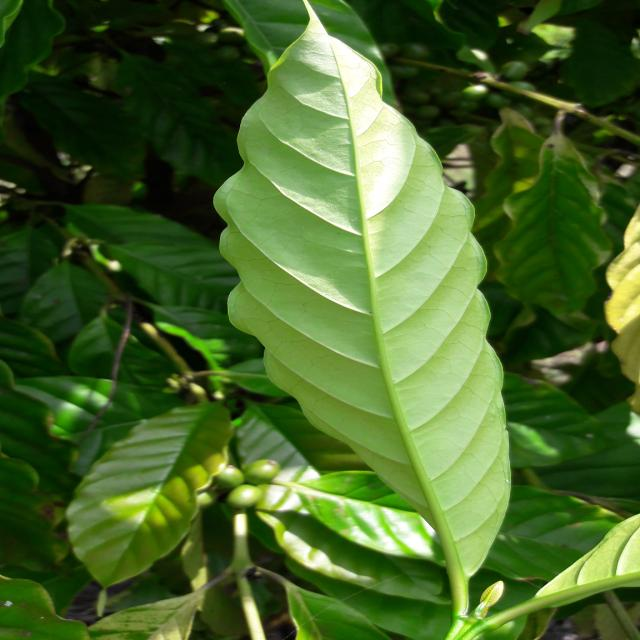Sanas: (211, 0, 513, 616)
